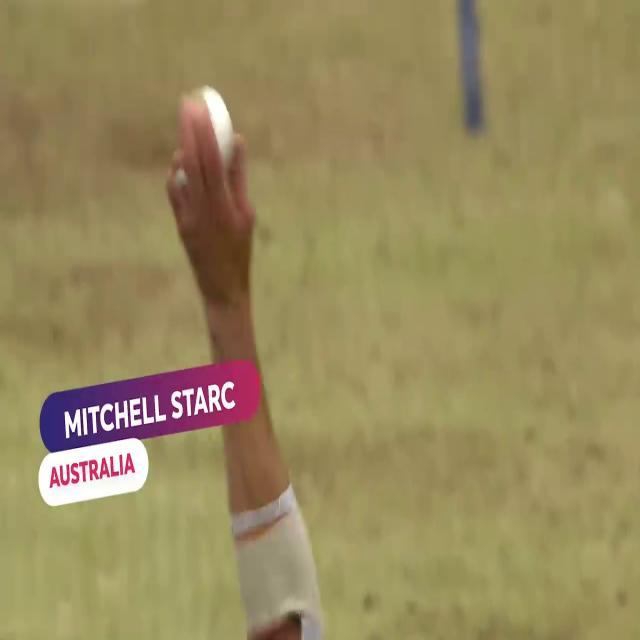ball: (162, 60, 268, 256)
